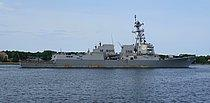MIL_Ship: (18, 22, 197, 68)
